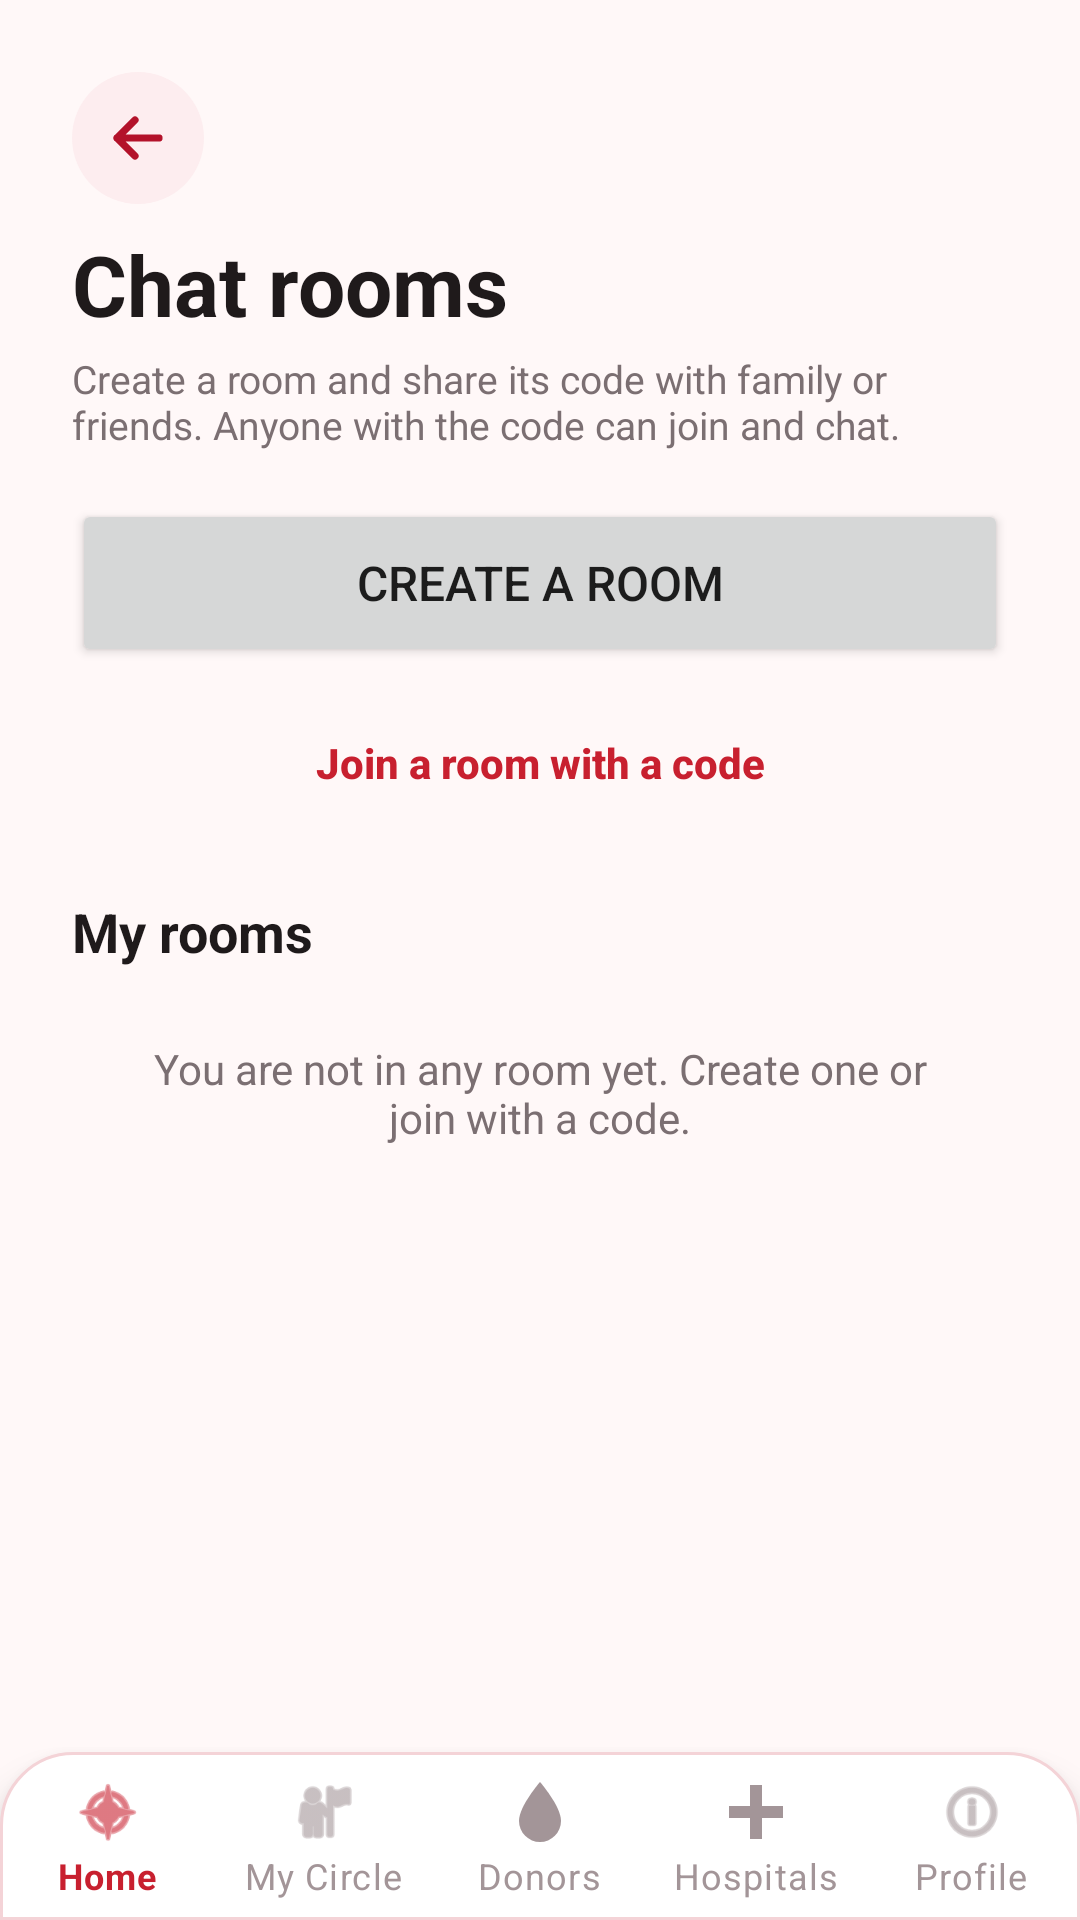

Icons on this 1080px x 1920px Android screen, each with the point to tap as [x,y]:
Back: [138,138]
